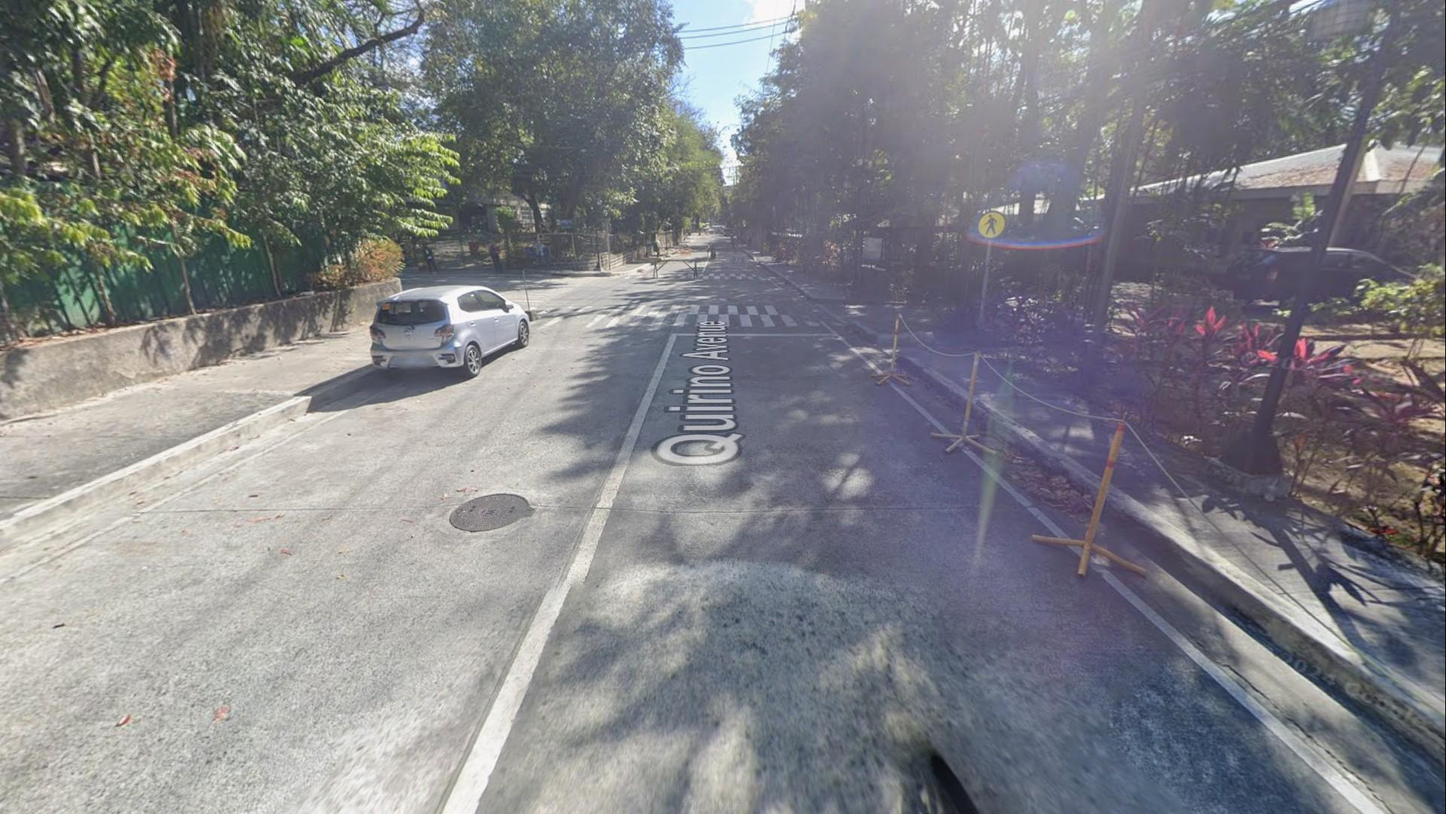pedestrian: (420, 241, 441, 275), (487, 238, 505, 274), (746, 233, 753, 250), (729, 234, 736, 250)
